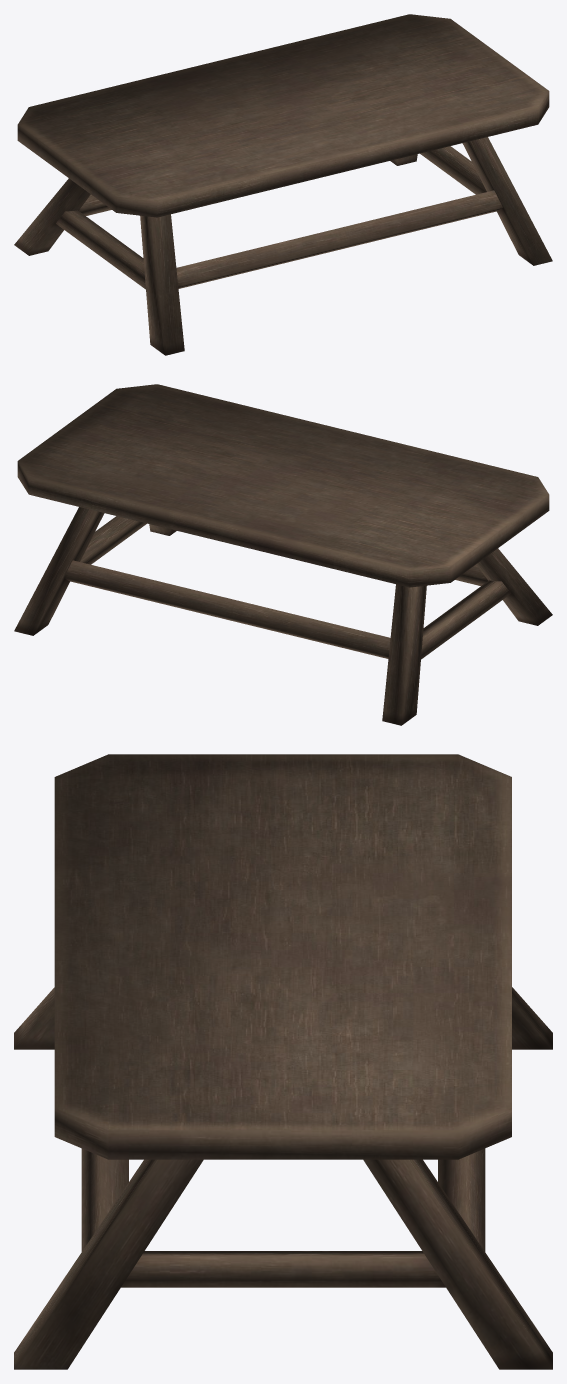
Rendered from bord.glb.
3 views of the same model, one above another, from view 1: azimuth 30°, elevation 25°; view 2: azimuth 150°, elevation 25°; view 3: azimuth 270°, elevation 25° (orthographic). The views are drawn at different scales.
Parts seen in each view (by area): view 1: Cube.002; view 2: Cube.002; view 3: Cube.002.
Boxes of the visible parts, x1,y1,x2,y2 form: Cube.002: (14, 14, 552, 355); Cube.002: (14, 384, 552, 725); Cube.002: (14, 754, 552, 1369).
Size of the model in its own units: 1.72 by 0.5512 by 1.04.
1 material, 1 textured.
